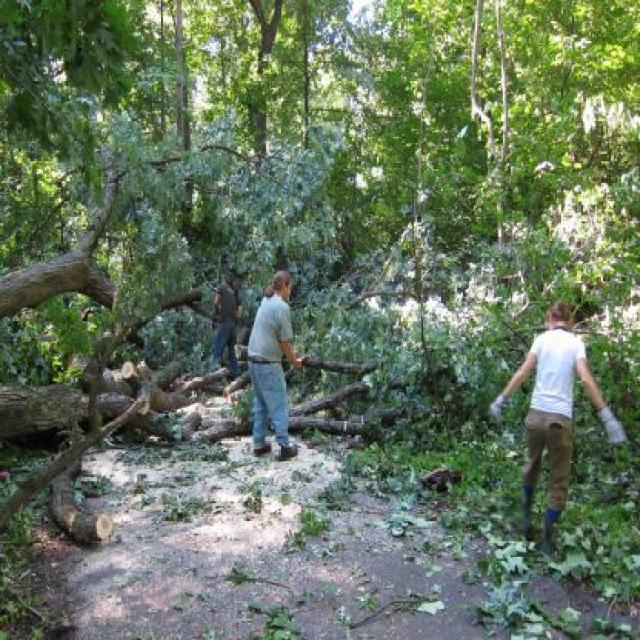garbage: (318, 343, 466, 499), (0, 383, 110, 570), (89, 343, 210, 510), (0, 231, 98, 397)
